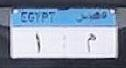1: (33, 32, 43, 53)
meem: (84, 31, 98, 53)
